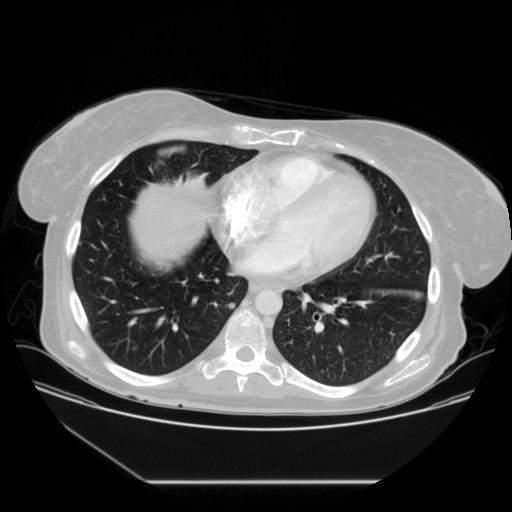nodule: (226, 300, 238, 312)
